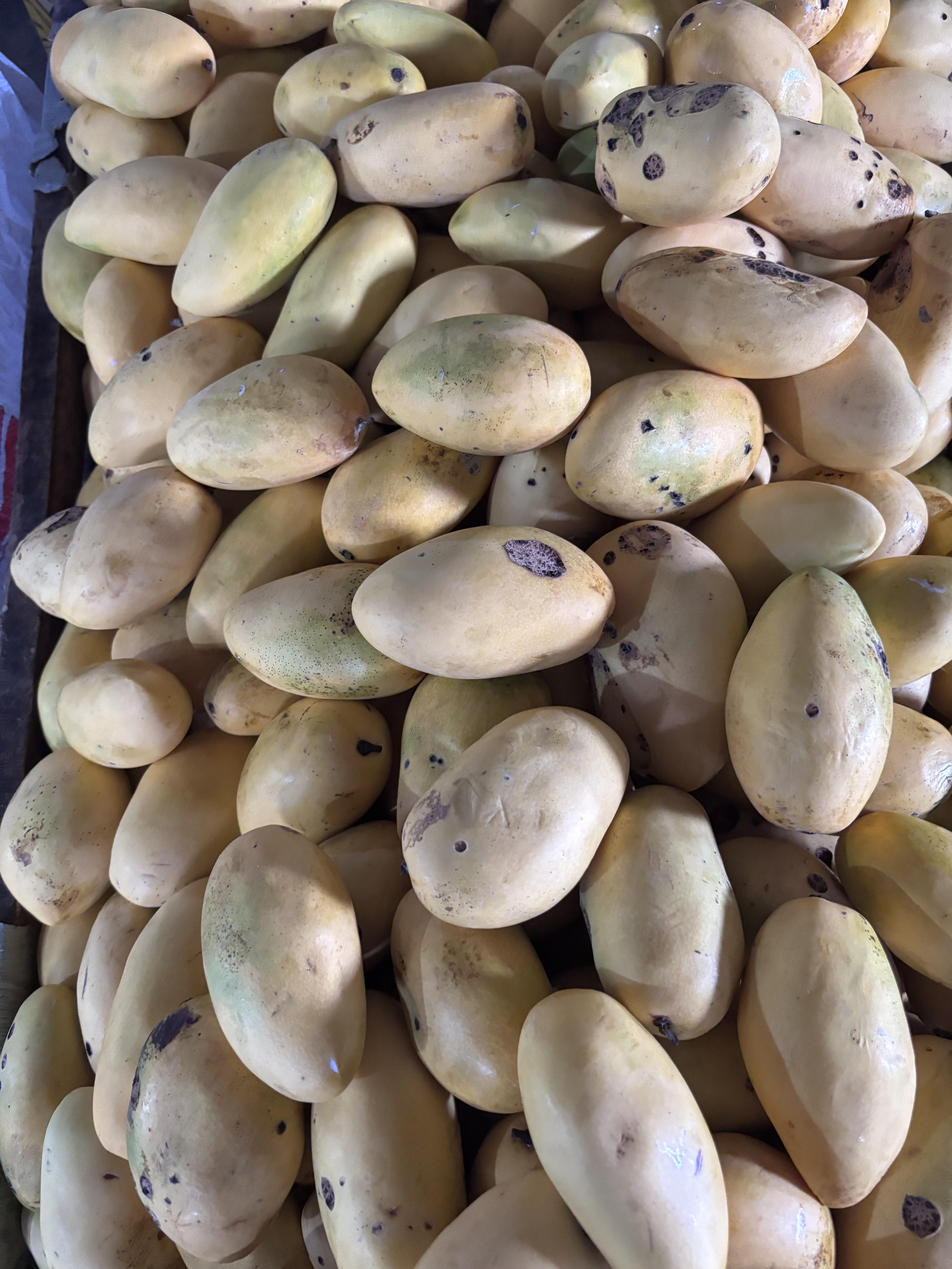mango: (738, 896, 916, 1208), (402, 706, 629, 928), (202, 824, 366, 1102), (726, 565, 893, 834), (352, 525, 614, 679), (372, 313, 591, 457), (565, 369, 763, 524), (166, 354, 367, 490), (57, 659, 192, 768)
occluded: (518, 989, 728, 1269), (127, 995, 304, 1262), (587, 520, 747, 791), (312, 991, 466, 1269), (581, 785, 744, 1047), (391, 892, 551, 1114), (617, 246, 867, 379), (93, 879, 206, 1157), (356, 264, 548, 421), (172, 137, 337, 317), (834, 1034, 952, 1269), (224, 563, 423, 700), (689, 481, 885, 618), (595, 82, 780, 227), (754, 320, 928, 472), (89, 317, 264, 468), (40, 1087, 185, 1269), (323, 82, 534, 207), (186, 477, 338, 650), (60, 467, 222, 629), (110, 727, 254, 907), (264, 205, 417, 370), (449, 178, 640, 309), (741, 116, 915, 259), (396, 673, 550, 830), (322, 429, 500, 564), (0, 748, 130, 925), (237, 700, 392, 844), (0, 985, 93, 1210), (836, 812, 952, 989), (665, 0, 823, 123), (416, 1170, 609, 1269), (601, 217, 793, 313), (64, 156, 226, 266), (62, 8, 216, 118), (867, 214, 952, 411), (713, 1133, 835, 1269), (274, 43, 426, 145), (720, 836, 852, 952), (333, 0, 498, 88), (845, 555, 952, 688), (487, 437, 612, 549), (76, 893, 153, 1071), (112, 597, 227, 708), (793, 466, 928, 560), (543, 31, 662, 136), (322, 819, 411, 958), (83, 258, 177, 384), (533, 0, 690, 74), (844, 67, 952, 164), (37, 623, 115, 750), (864, 704, 952, 816), (185, 71, 282, 169), (66, 101, 186, 178), (42, 210, 110, 341), (11, 507, 86, 617), (483, 64, 563, 160), (204, 658, 302, 736), (50, 0, 119, 109), (37, 890, 112, 988), (719, 808, 837, 870), (190, 0, 340, 47), (467, 1113, 541, 1203), (810, 0, 890, 82), (871, 0, 952, 80), (882, 148, 952, 223), (750, 0, 846, 48), (895, 401, 952, 476), (408, 232, 473, 291), (764, 432, 818, 481), (819, 71, 859, 132), (104, 458, 173, 486), (919, 509, 952, 556), (893, 674, 932, 712), (917, 485, 952, 526)
